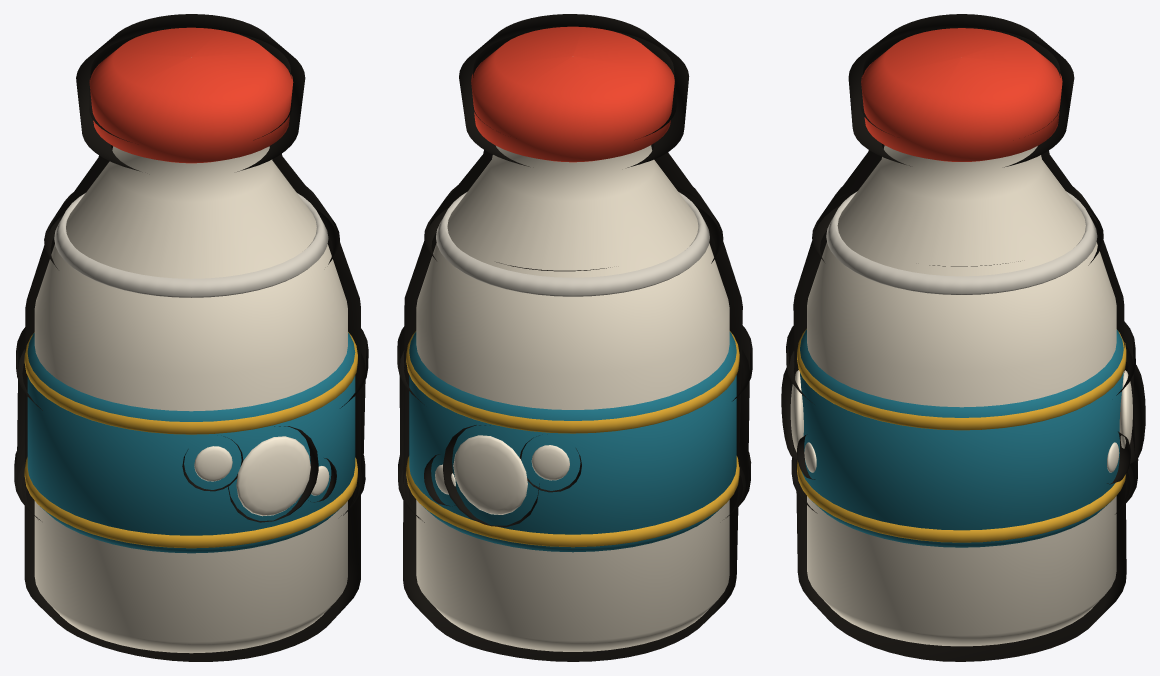
Rendered from milkbottle.glb.
3 views of the same model, side by side, from view 1: azimuth 30°, elevation 25°; view 2: azimuth 150°, elevation 25°; view 3: azimuth 270°, elevation 25° (orthographic).
Parts seen in each view (by area): view 1: MilkBottle, MilkBottle_outline; view 2: MilkBottle, MilkBottle_outline; view 3: MilkBottle, MilkBottle_outline.
Boxes of the visible parts, x1,y1,x2,y2 form: MilkBottle: (24, 27, 357, 653); MilkBottle_outline: (14, 14, 368, 661); MilkBottle: (406, 26, 739, 651); MilkBottle_outline: (397, 14, 752, 661); MilkBottle: (790, 28, 1132, 646); MilkBottle_outline: (781, 14, 1145, 661).
Bounding box in the file's own units: 0.9088 × 1.58 × 0.9408.
